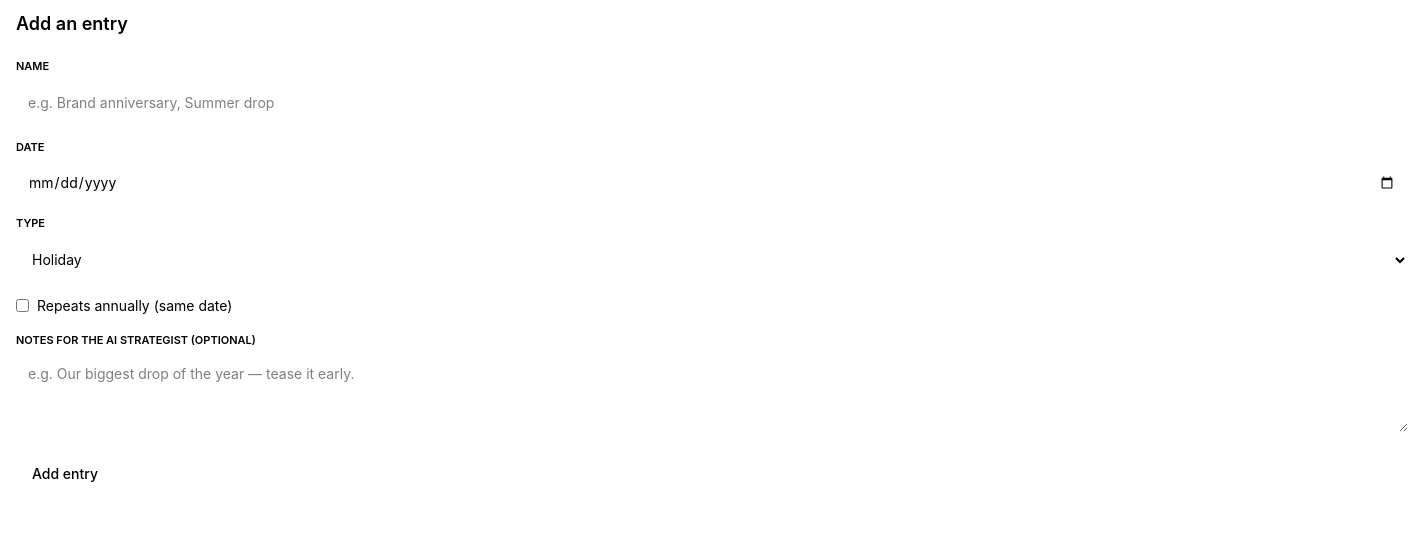
Scenario: AddEntryCard › has the old app’s fields and clears after a successful add
Expected: the dropdown labelled "Type" shows "Holiday", [16,240,1408,280]
Expected: the checkbox labelled "Repeats annually (same date)" is not checked, [16,299,29,312]
Step 1. Type "Summer drop" into the field labelled "Name" → point(712, 102), box [16,82,1408,122]
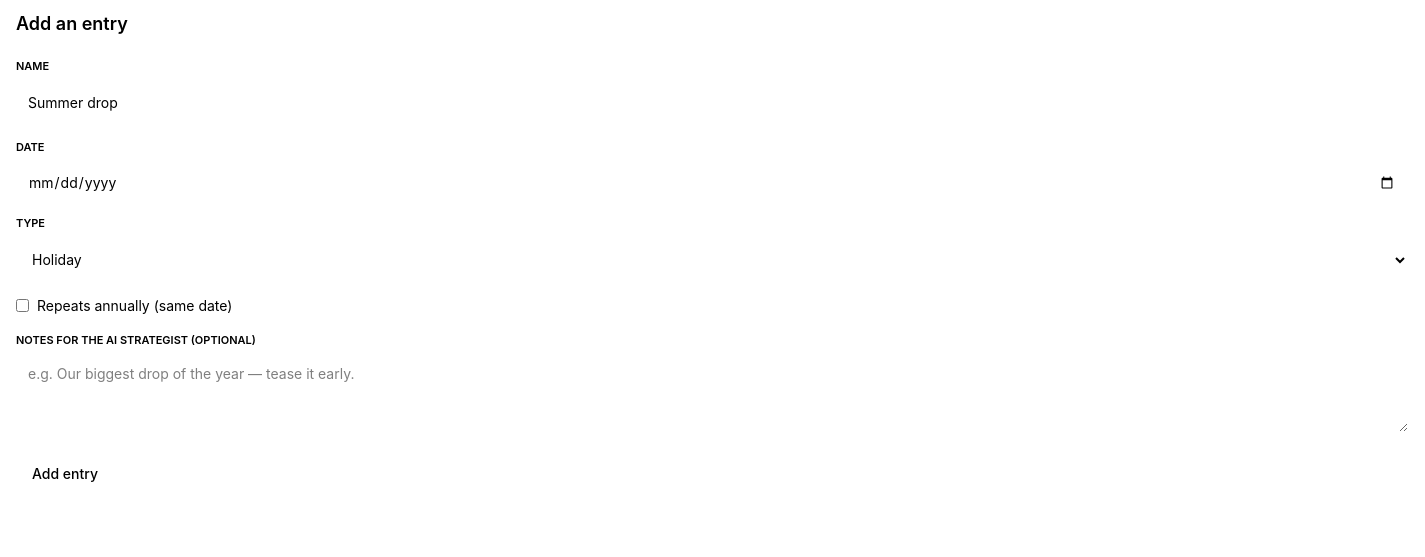
Step 2. Click the button "Add entry" → point(65, 474), box [16,454,114,494]
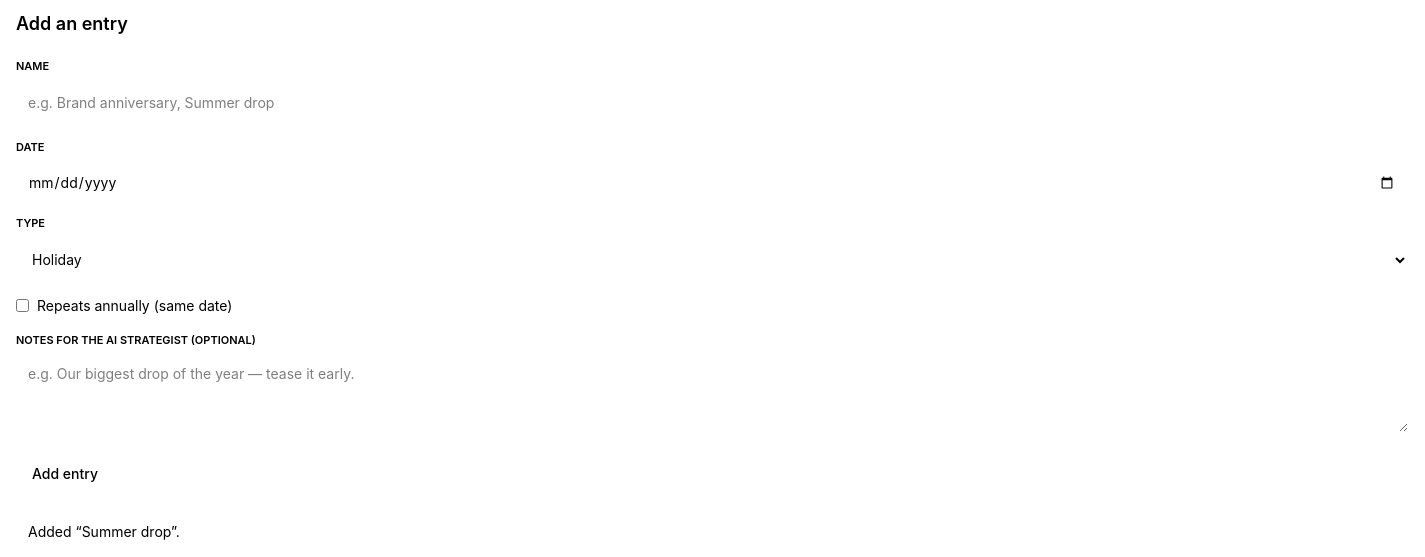
Expected: the text "Added “Summer drop”." is shown, [28,523,180,540]
Expected: the field labelled "Name" is empty, [16,82,1408,122]
